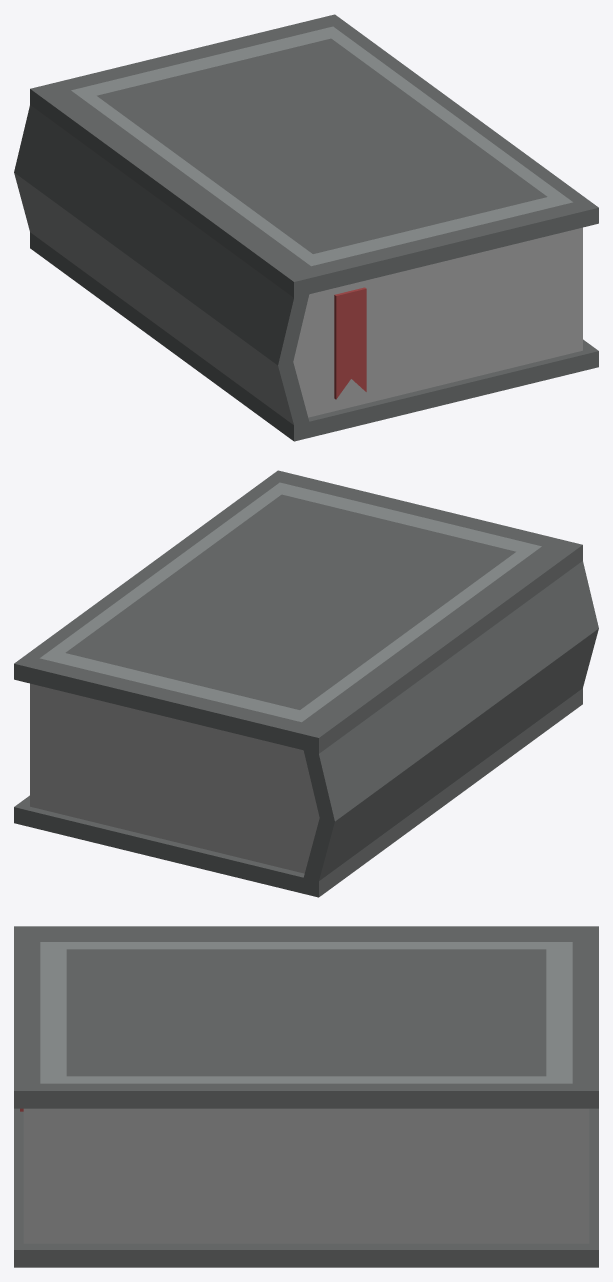
Rendered from Book_1_Gray.fbx.
3 renders of one model, top to bottom at view 1: azimuth 30°, elevation 25°; view 2: azimuth 150°, elevation 25°; view 3: azimuth 270°, elevation 25°, orthographic. The views are drawn at different scales.
Visible parts, largest first — view 1: Book_1_Gray_Part_1, Book_1_Gray_Part_3, Book_1_Gray_Part_2, Book_1_Gray_Part_4; view 2: Book_1_Gray_Part_1, Book_1_Gray_Part_3, Book_1_Gray_Part_2; view 3: Book_1_Gray_Part_1, Book_1_Gray_Part_3, Book_1_Gray_Part_2.
Part boxes in pixels (x1,y1,x2,y2): Book_1_Gray_Part_1: [14, 14, 598, 441]; Book_1_Gray_Part_3: [293, 227, 582, 417]; Book_1_Gray_Part_2: [71, 26, 572, 266]; Book_1_Gray_Part_4: [334, 287, 366, 399]; Book_1_Gray_Part_1: [14, 470, 598, 897]; Book_1_Gray_Part_3: [30, 683, 319, 873]; Book_1_Gray_Part_2: [40, 482, 541, 722]; Book_1_Gray_Part_1: [14, 926, 598, 1267]; Book_1_Gray_Part_3: [23, 1108, 589, 1243]; Book_1_Gray_Part_2: [40, 942, 572, 1083].
Bounding box in the file's own units: 21.06 × 10 × 30.
